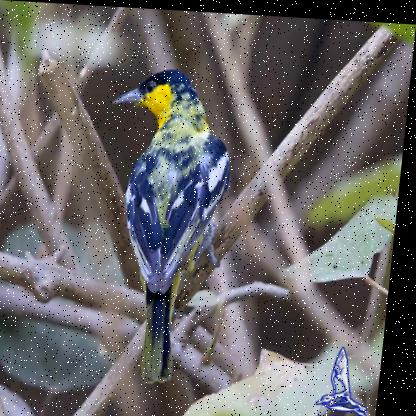Burung: (91, 63, 241, 383)
